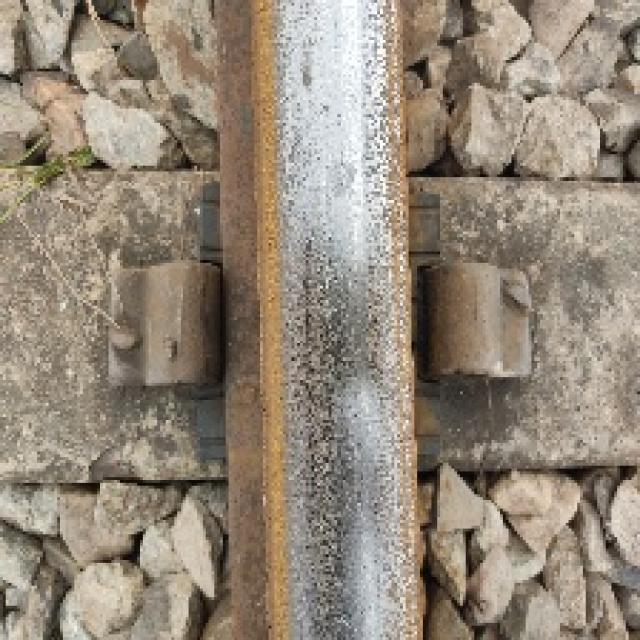Missing Fastener: (95, 222, 225, 395), (406, 241, 541, 399)
